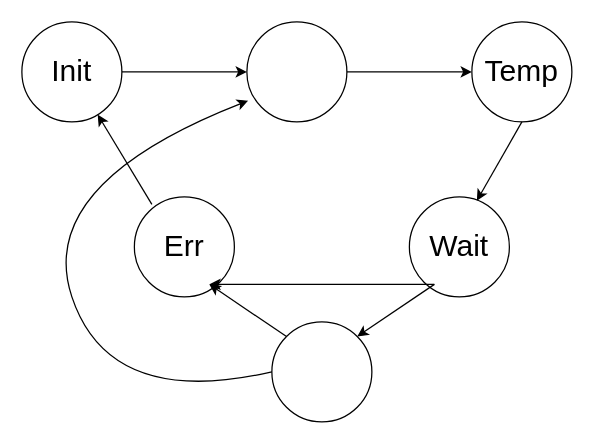
This 594x444 diagram has some shape labels left out. The centre of each missing label's shape, as x and y in pixels:
Heat: the point at 321,371
Mode: the point at 296,71
